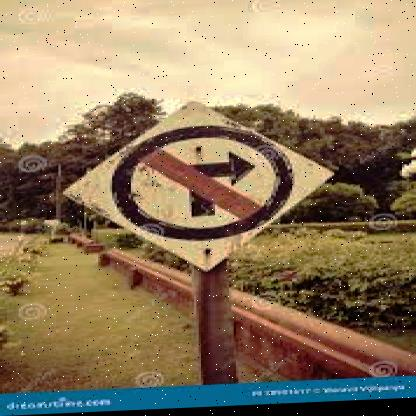No right turn: (65, 98, 333, 280)
